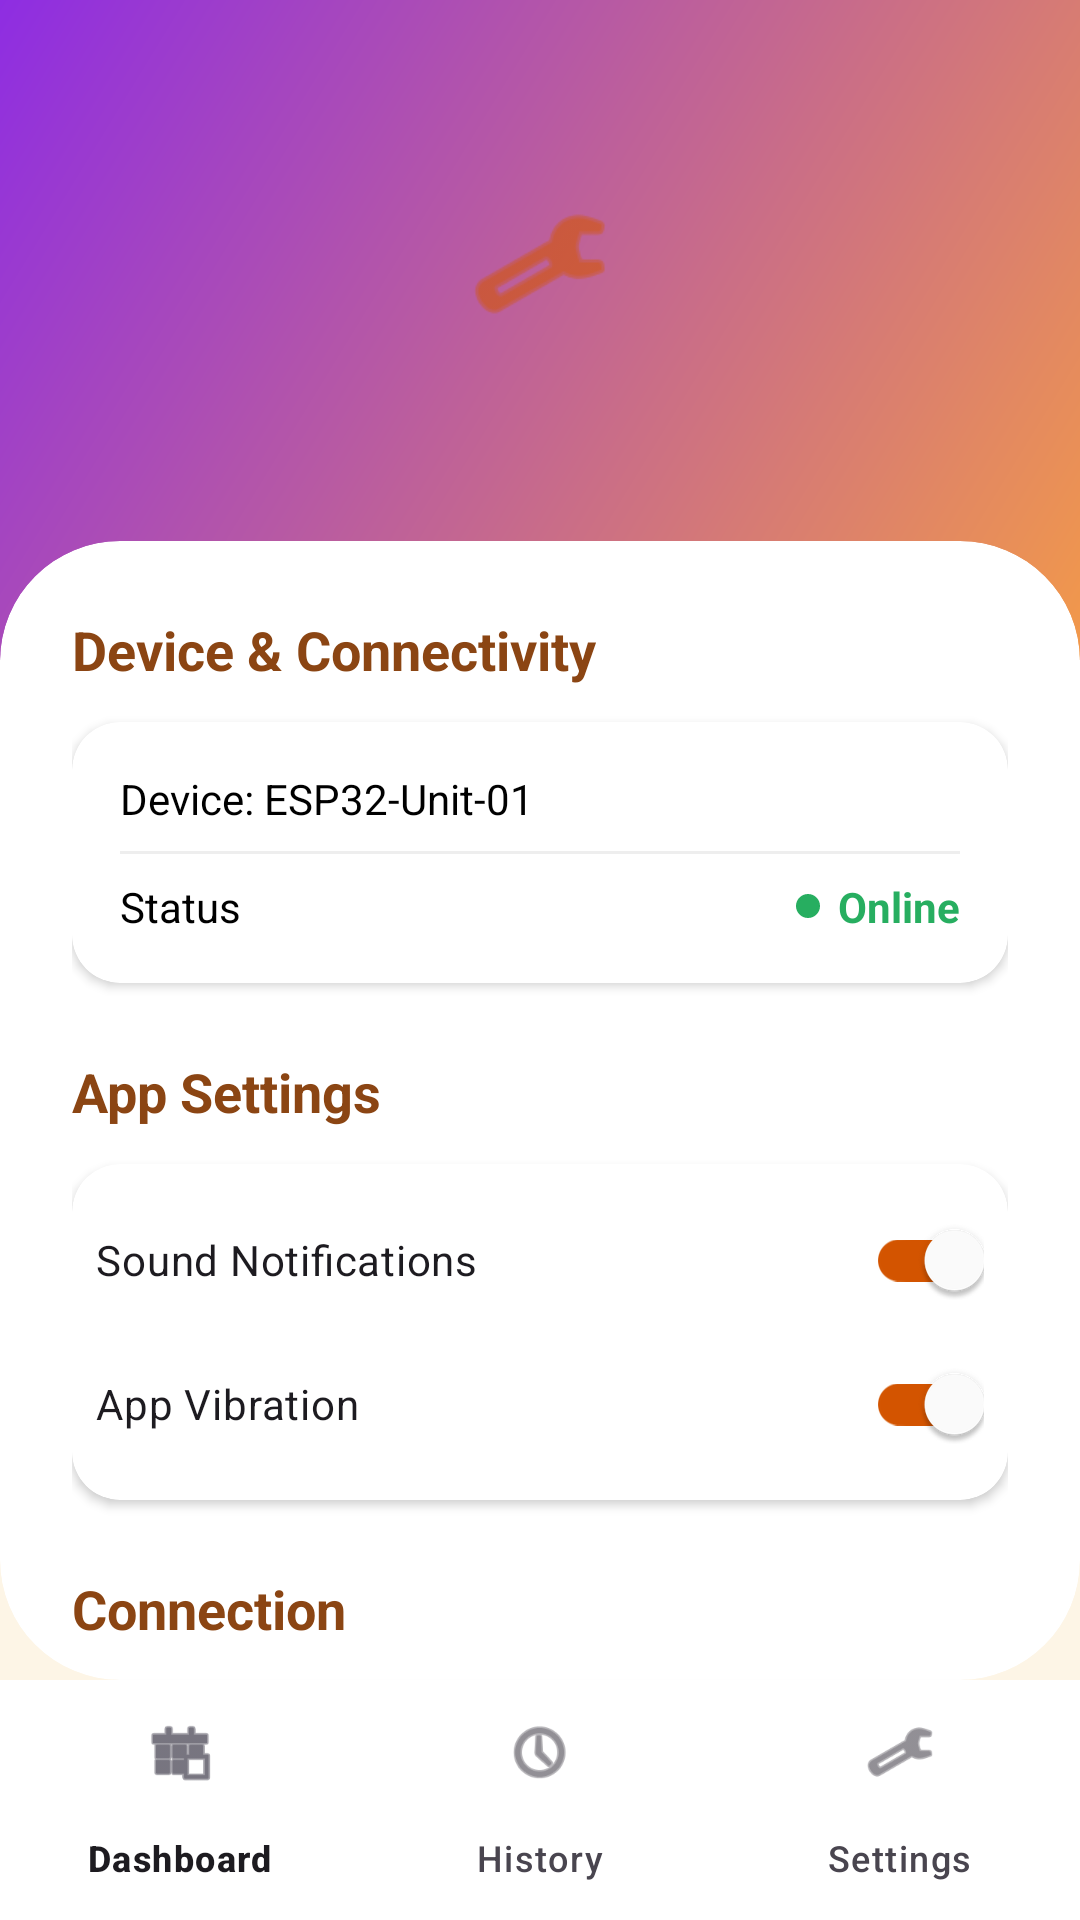

Icons on this 1080×1920 Android screen, each with the point to tap as [x,y]:
preferences: [540,264]
